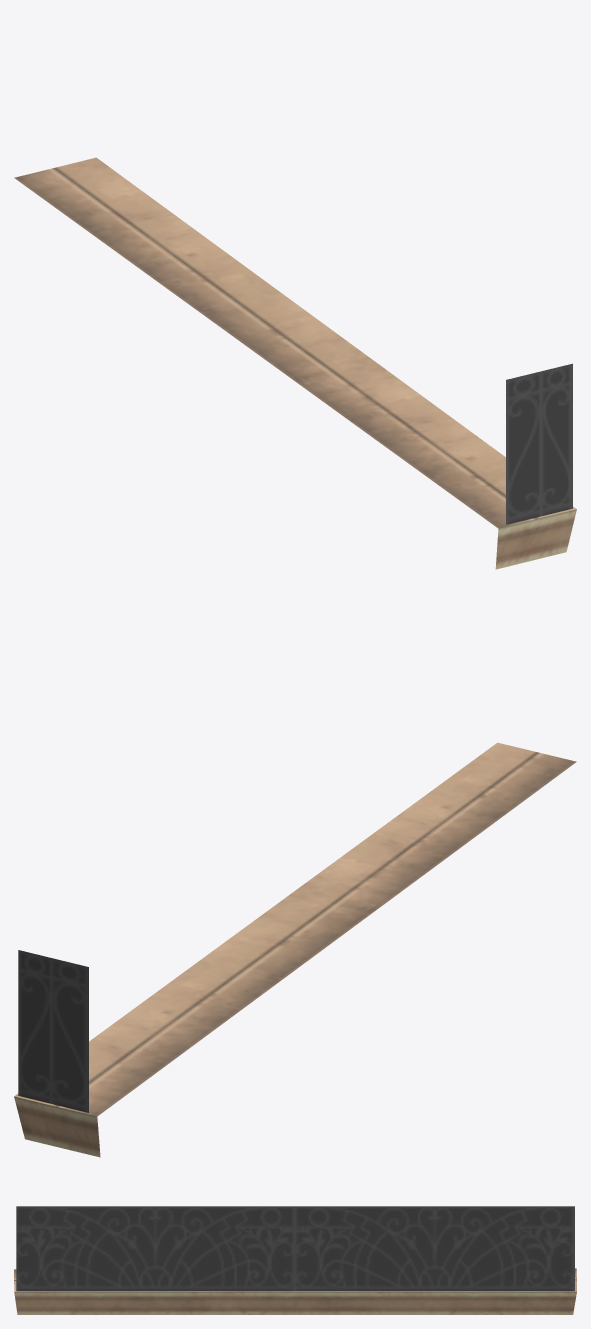
3 renders of one model, top to bottom at view 1: azimuth 30°, elevation 25°; view 2: azimuth 150°, elevation 25°; view 3: azimuth 270°, elevation 25°, orthographic. The views are drawn at different scales.
Visible parts, largest first — view 1: um_t1_ar308_model_t1_ar308_modelShape; view 2: um_t1_ar308_model_t1_ar308_modelShape; view 3: um_t1_ar308_model_t1_ar308_modelShape.
Boxes of the visible parts, x1=… form: um_t1_ar308_model_t1_ar308_modelShape: x1=14, y1=157, x2=576, y2=569; um_t1_ar308_model_t1_ar308_modelShape: x1=14, y1=742, x2=576, y2=1157; um_t1_ar308_model_t1_ar308_modelShape: x1=14, y1=1206, x2=576, y2=1314.
Size of the model in its own units: 0.4853 by 1.06 by 4.89.
Materials: 2 (2 with a texture image).
